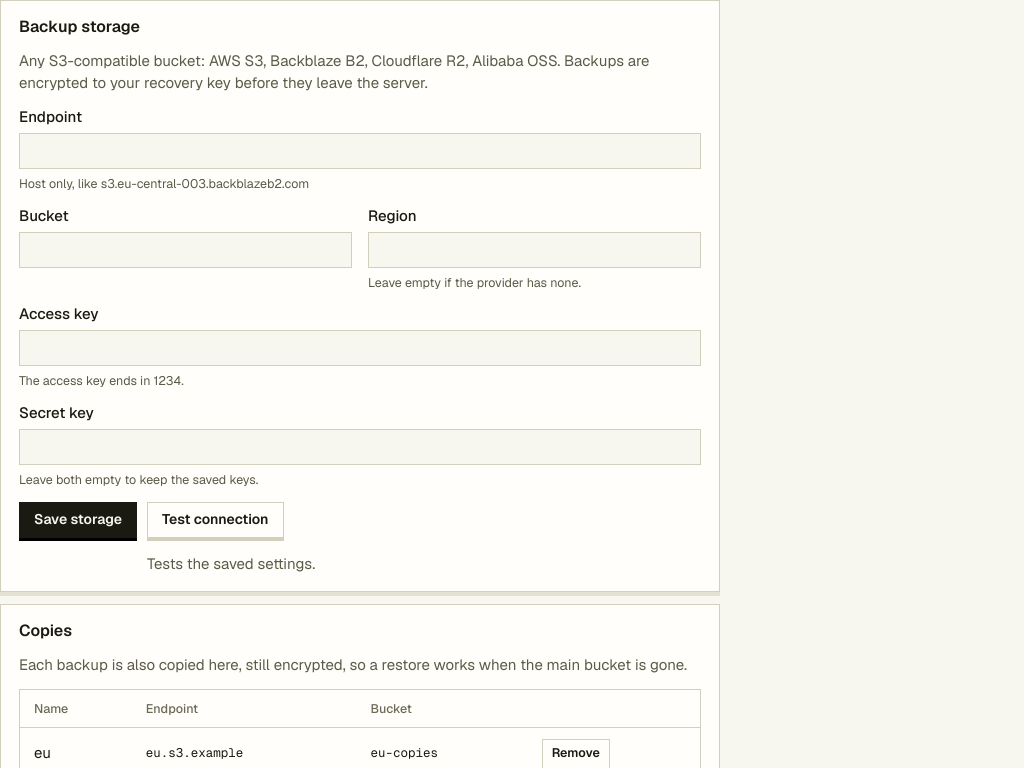
Test: Storage copies › asks before it removes a copy
Later steps or results of the test are not shown.
Click the button with aria-label "Remove eu" at {"x": 576, "y": 754}, box [542,739,610,767]
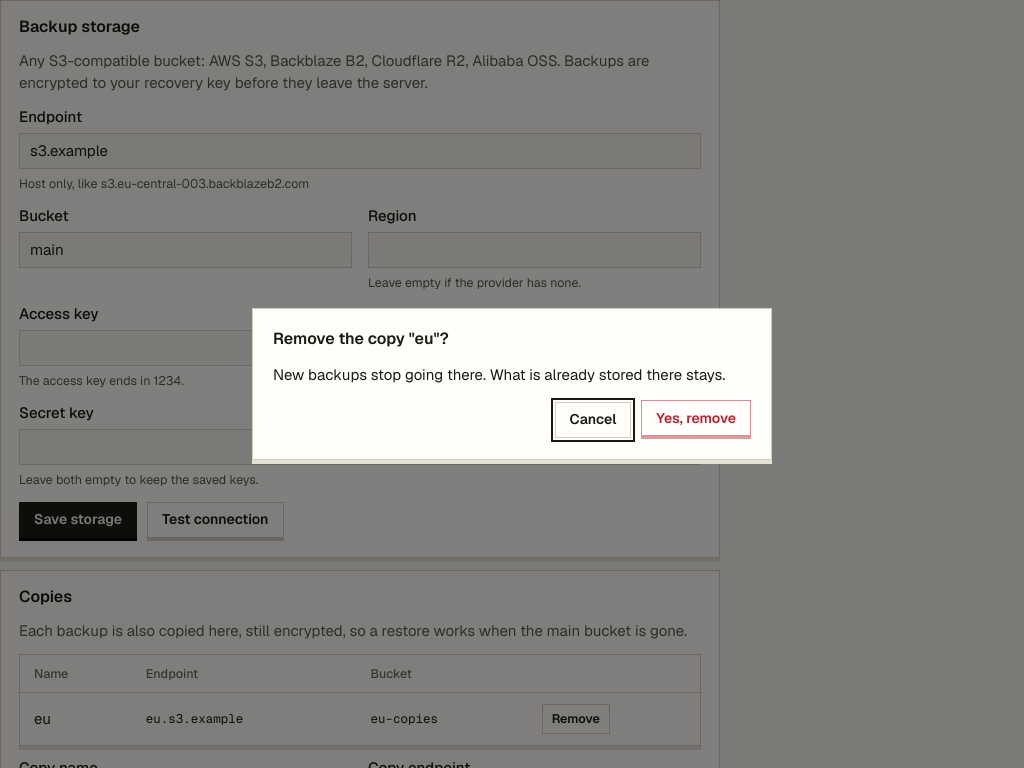
Now the heading "Remove the copy \"eu\"?" is shown, box [273,328,449,349]
